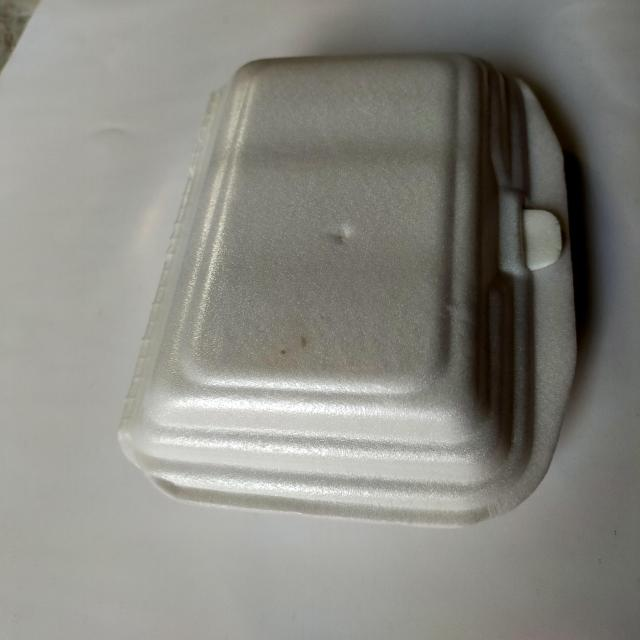styrofoam: (116, 50, 580, 528)
